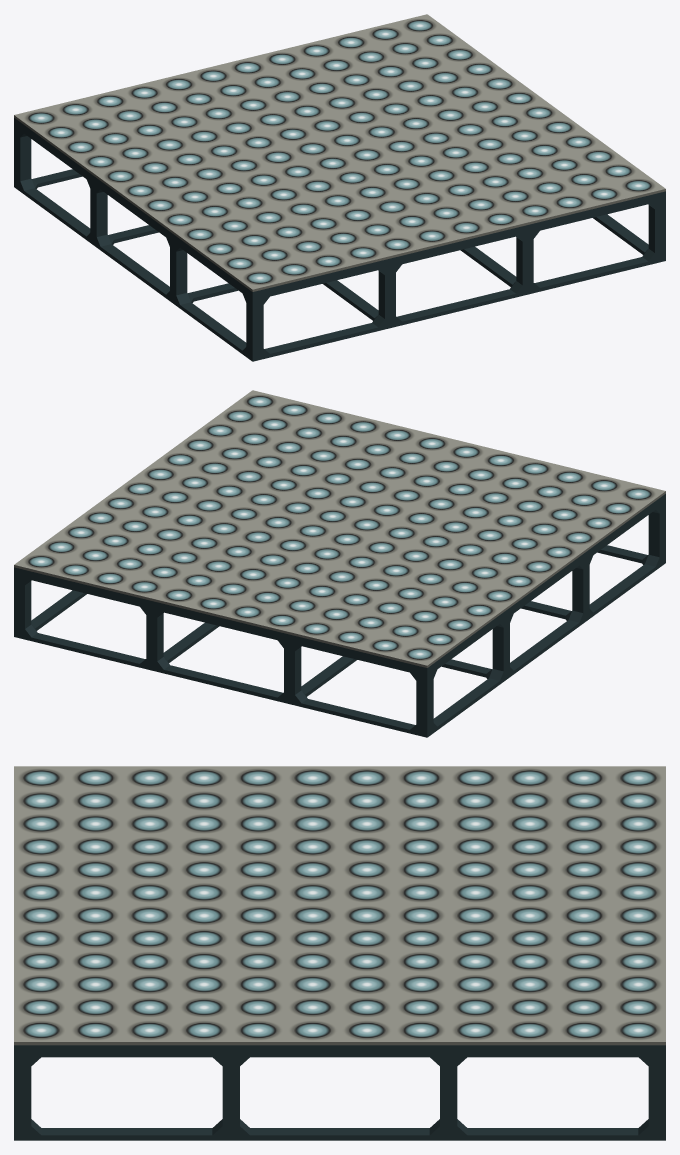
The model's file is CA_119_cosmodrome_floor_holes.glb.
3 views of the same model, one above another, from view 1: azimuth 30°, elevation 25°; view 2: azimuth 150°, elevation 25°; view 3: azimuth 270°, elevation 25° (orthographic). The views are drawn at different scales.
Parts seen in each view (by area): view 1: floor, metallic_structure; view 2: floor, metallic_structure; view 3: floor, metallic_structure.
Boxes of the visible parts, bbox=[...] form: floor: bbox=[14, 14, 665, 291]; metallic_structure: bbox=[14, 118, 665, 361]; floor: bbox=[14, 390, 665, 667]; metallic_structure: bbox=[14, 494, 665, 737]; floor: bbox=[14, 766, 665, 1045]; metallic_structure: bbox=[14, 1045, 665, 1140].
Size of the model in its own units: 2.25 by 0.375 by 2.25.
3 materials, 1 textured.
